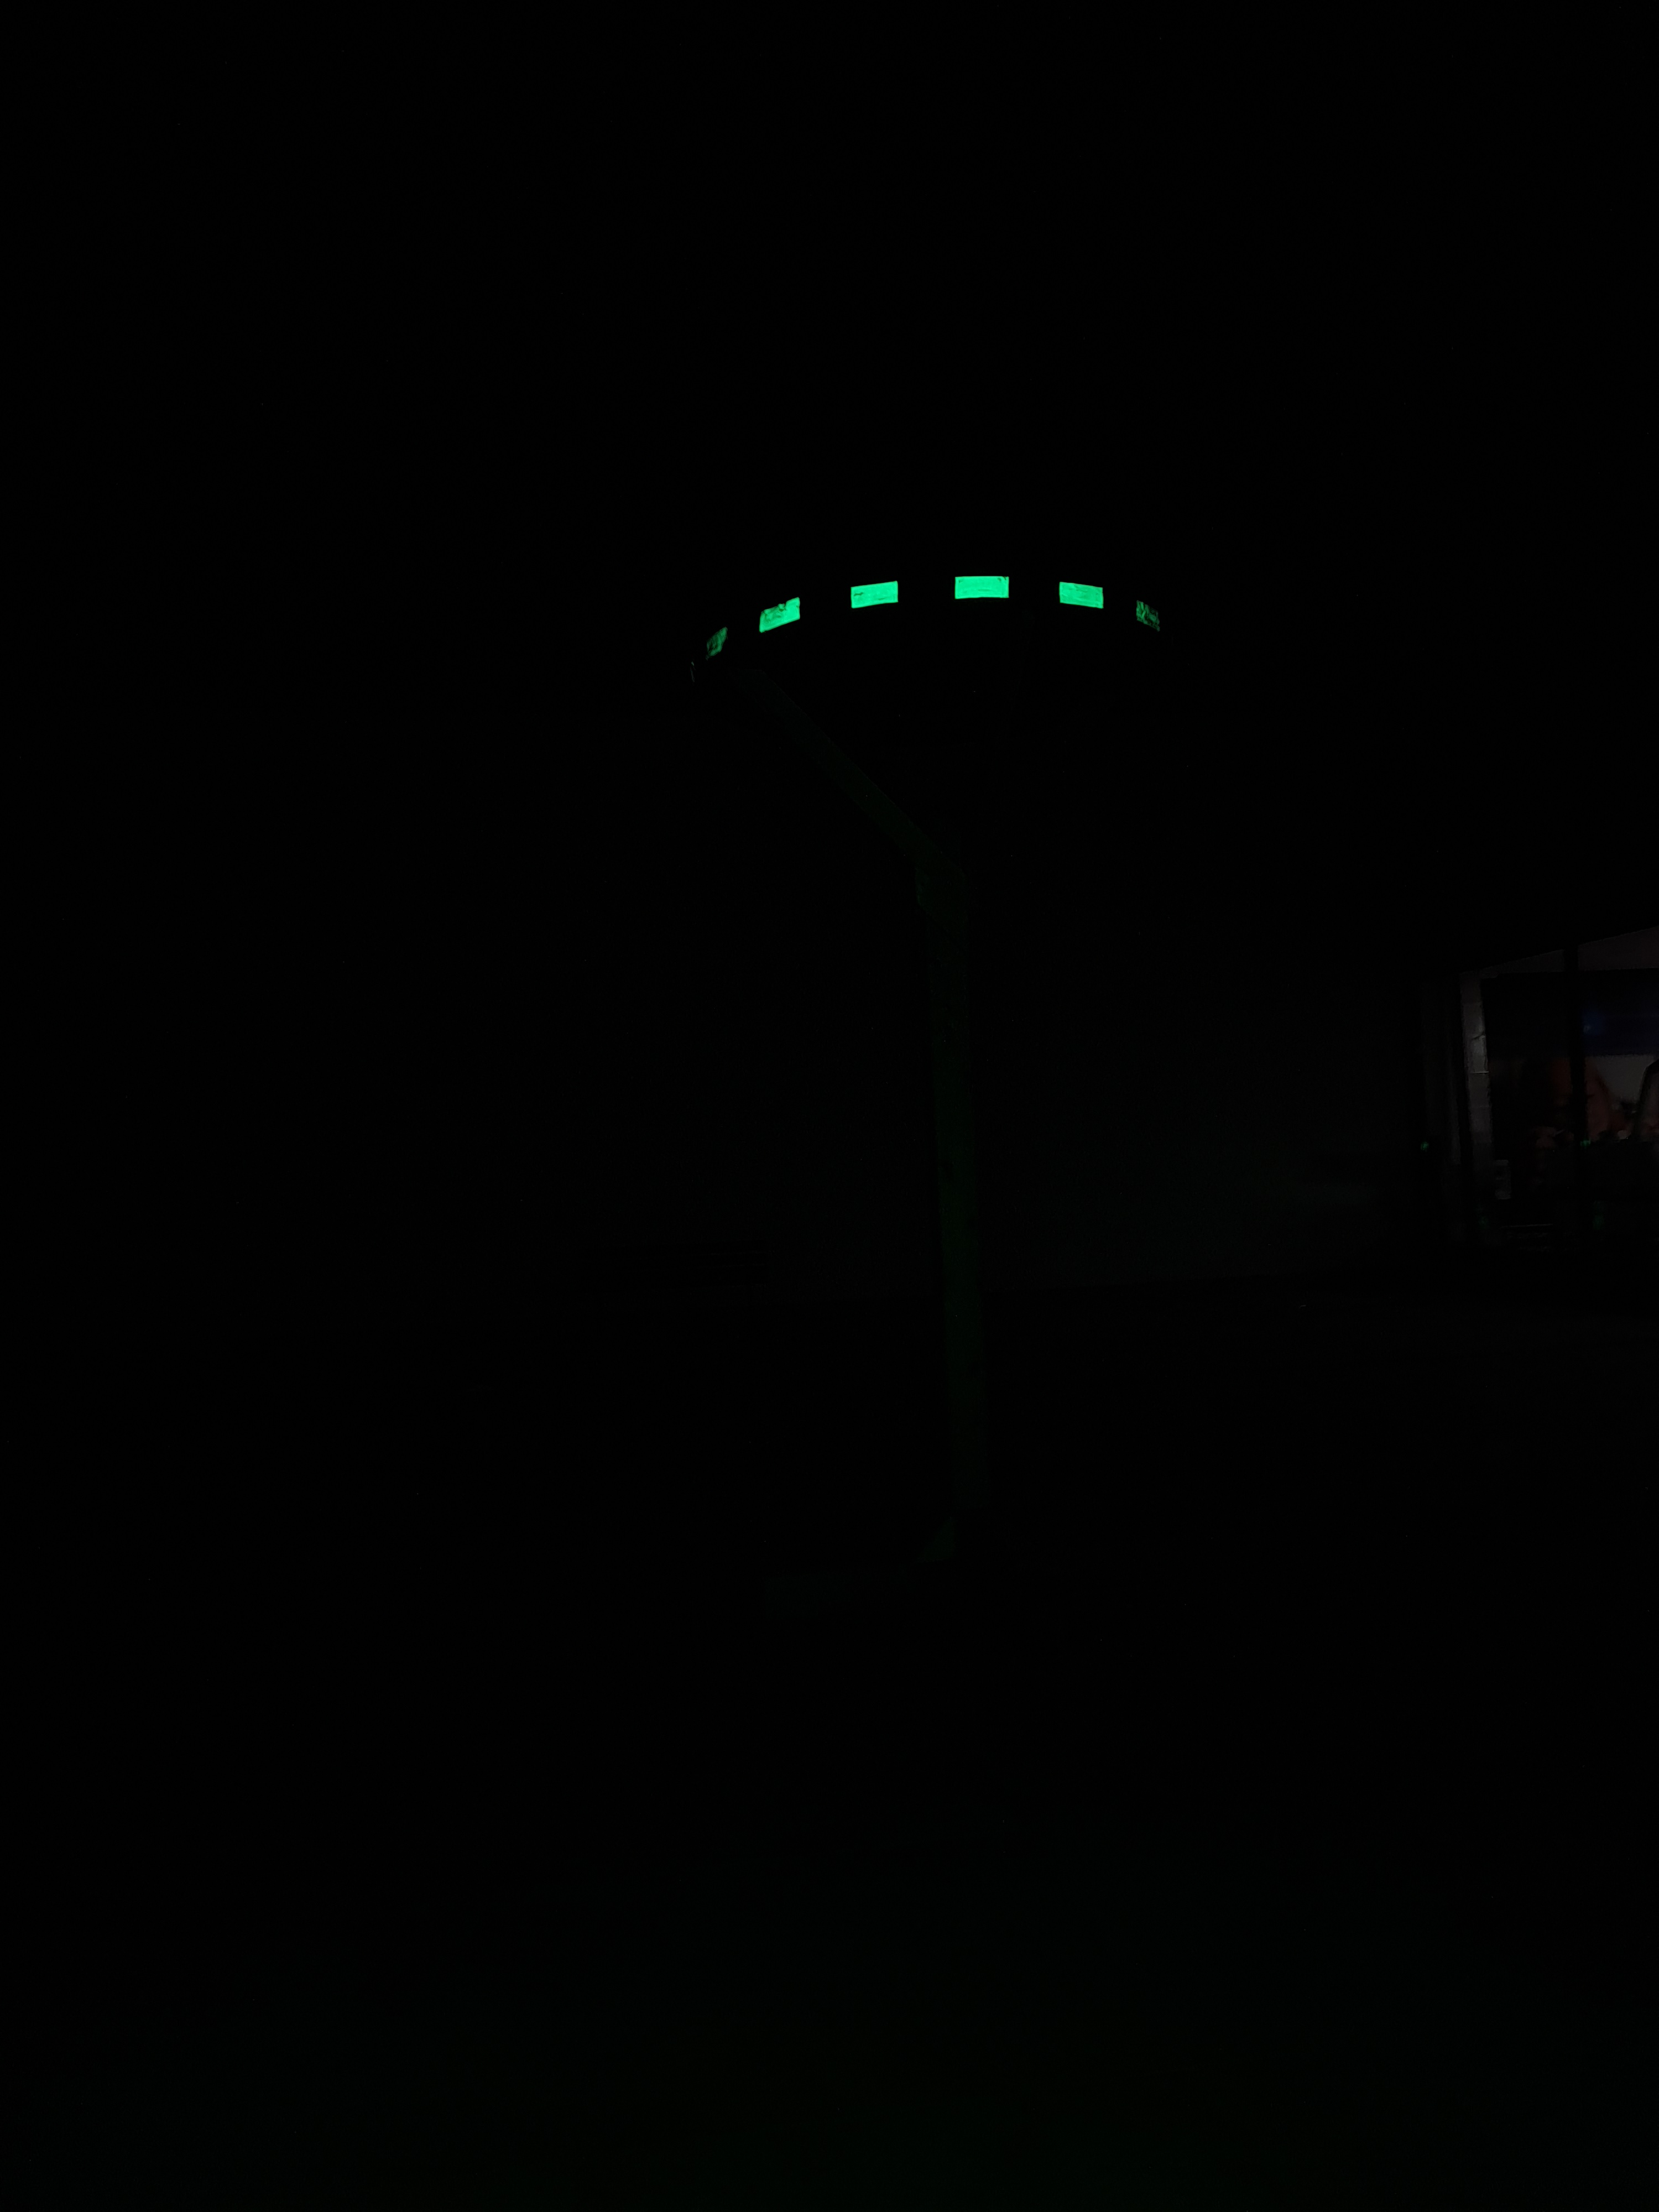hoop: (673, 535, 1175, 693)
